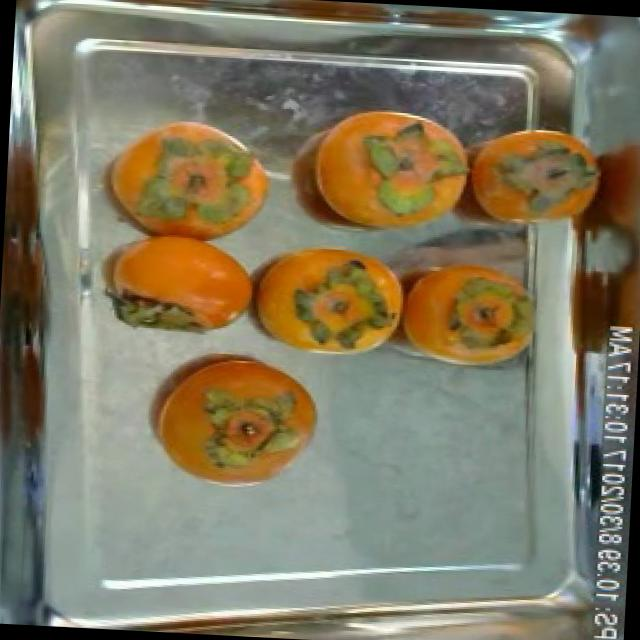Fruit: (128, 334, 336, 500), (86, 104, 294, 250), (219, 237, 421, 365), (377, 250, 542, 384)
